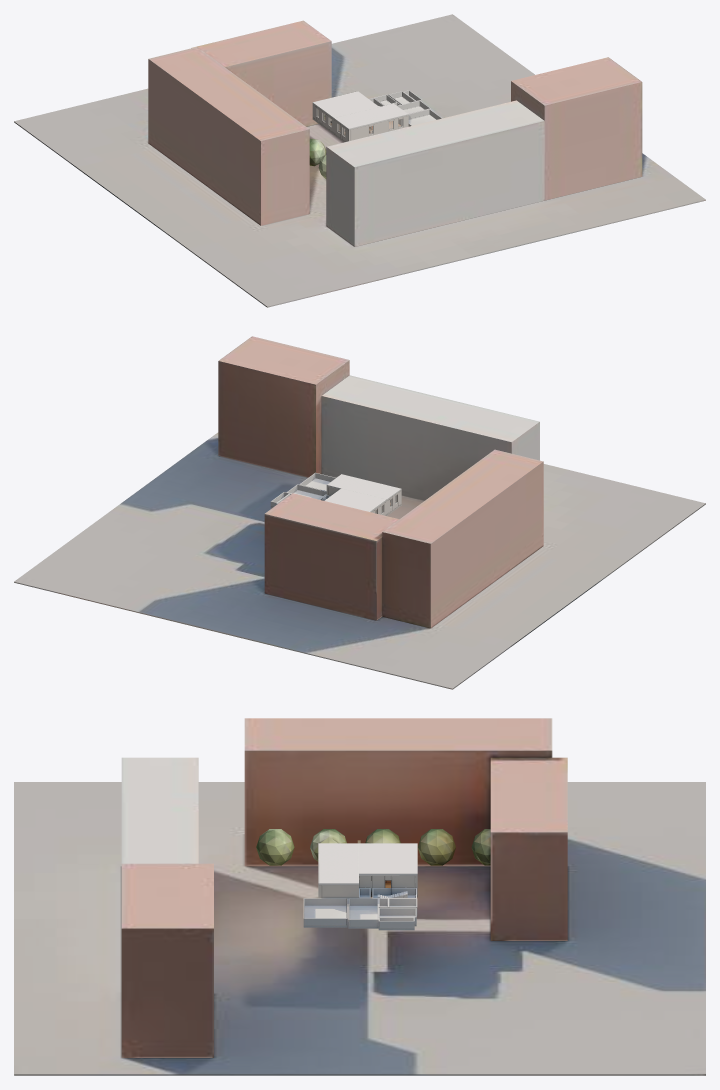
The model's file is office.glb.
3 renders of one model, top to bottom at view 1: azimuth 30°, elevation 25°; view 2: azimuth 150°, elevation 25°; view 3: azimuth 270°, elevation 25°, orthographic. The views are drawn at different scales.
Parts seen in each view (by area): view 1: G_outdoor, G_ceiling, G_context, G_shell; view 2: G_outdoor, G_ceiling, G_context; view 3: G_outdoor, G_context, G_ceiling, G_shell.
Part boxes in pixels (x1,y1,x2,y2): G_outdoor: (14, 14, 705, 307); G_ceiling: (312, 91, 408, 129); G_context: (312, 90, 442, 142); G_shell: (312, 104, 408, 141); G_outdoor: (14, 336, 705, 689); G_ceiling: (324, 474, 401, 512); G_context: (270, 472, 401, 515); G_outdoor: (14, 718, 705, 1075); G_context: (303, 888, 417, 930); G_ceiling: (318, 843, 417, 885); G_shell: (318, 875, 417, 904).
Size of the model in its own units: 90 by 18.8 by 90.
Materials: 7 (6 with a texture image).
